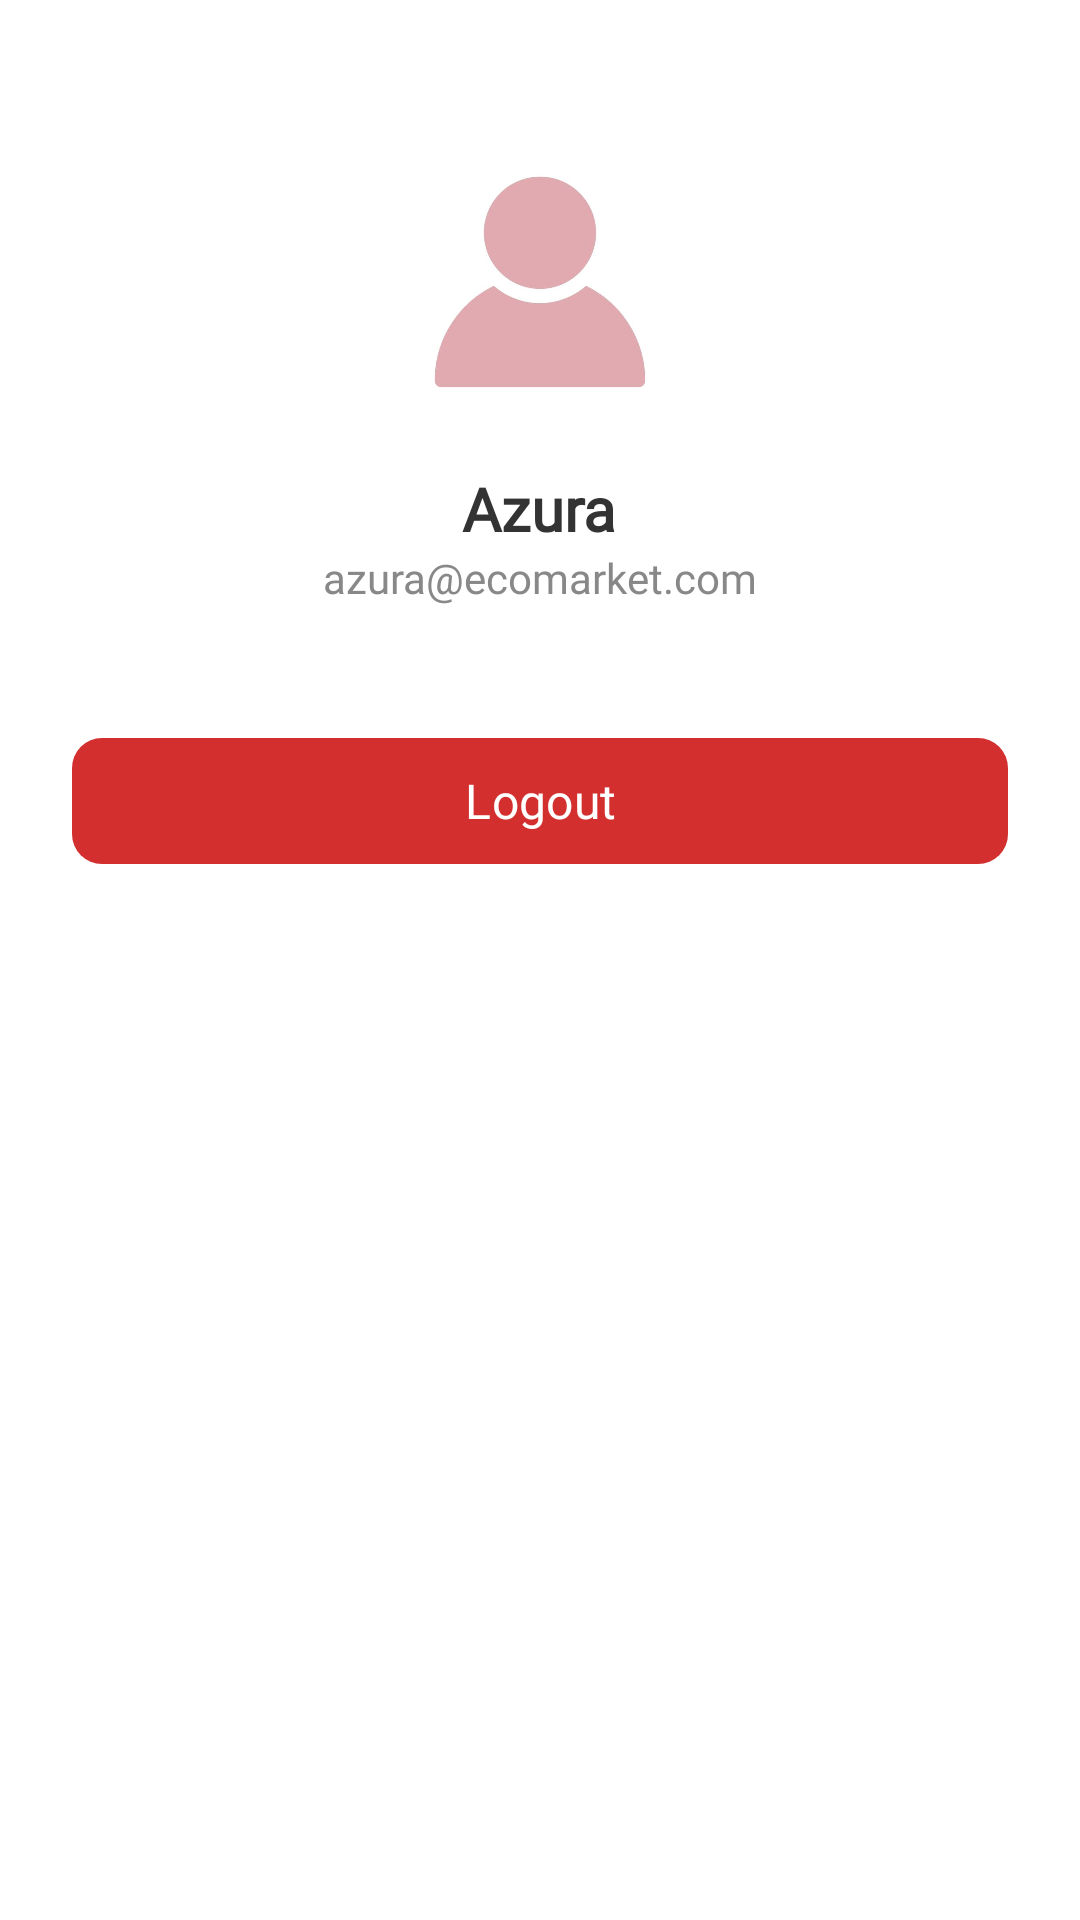

Where icons sit on this 1080*1920 app screen, as bbox=(x1, y1, x2, y2):
Profile Picture: bbox=(435, 177, 645, 387)
